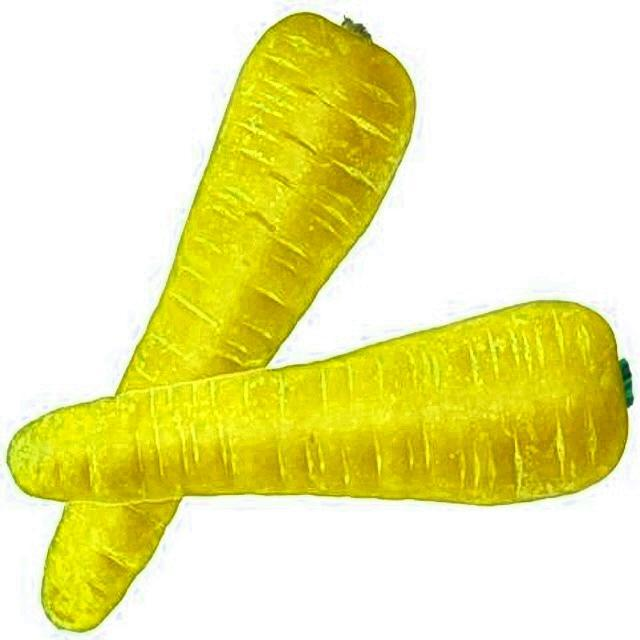carrot: (41, 12, 415, 634), (9, 301, 628, 504)
